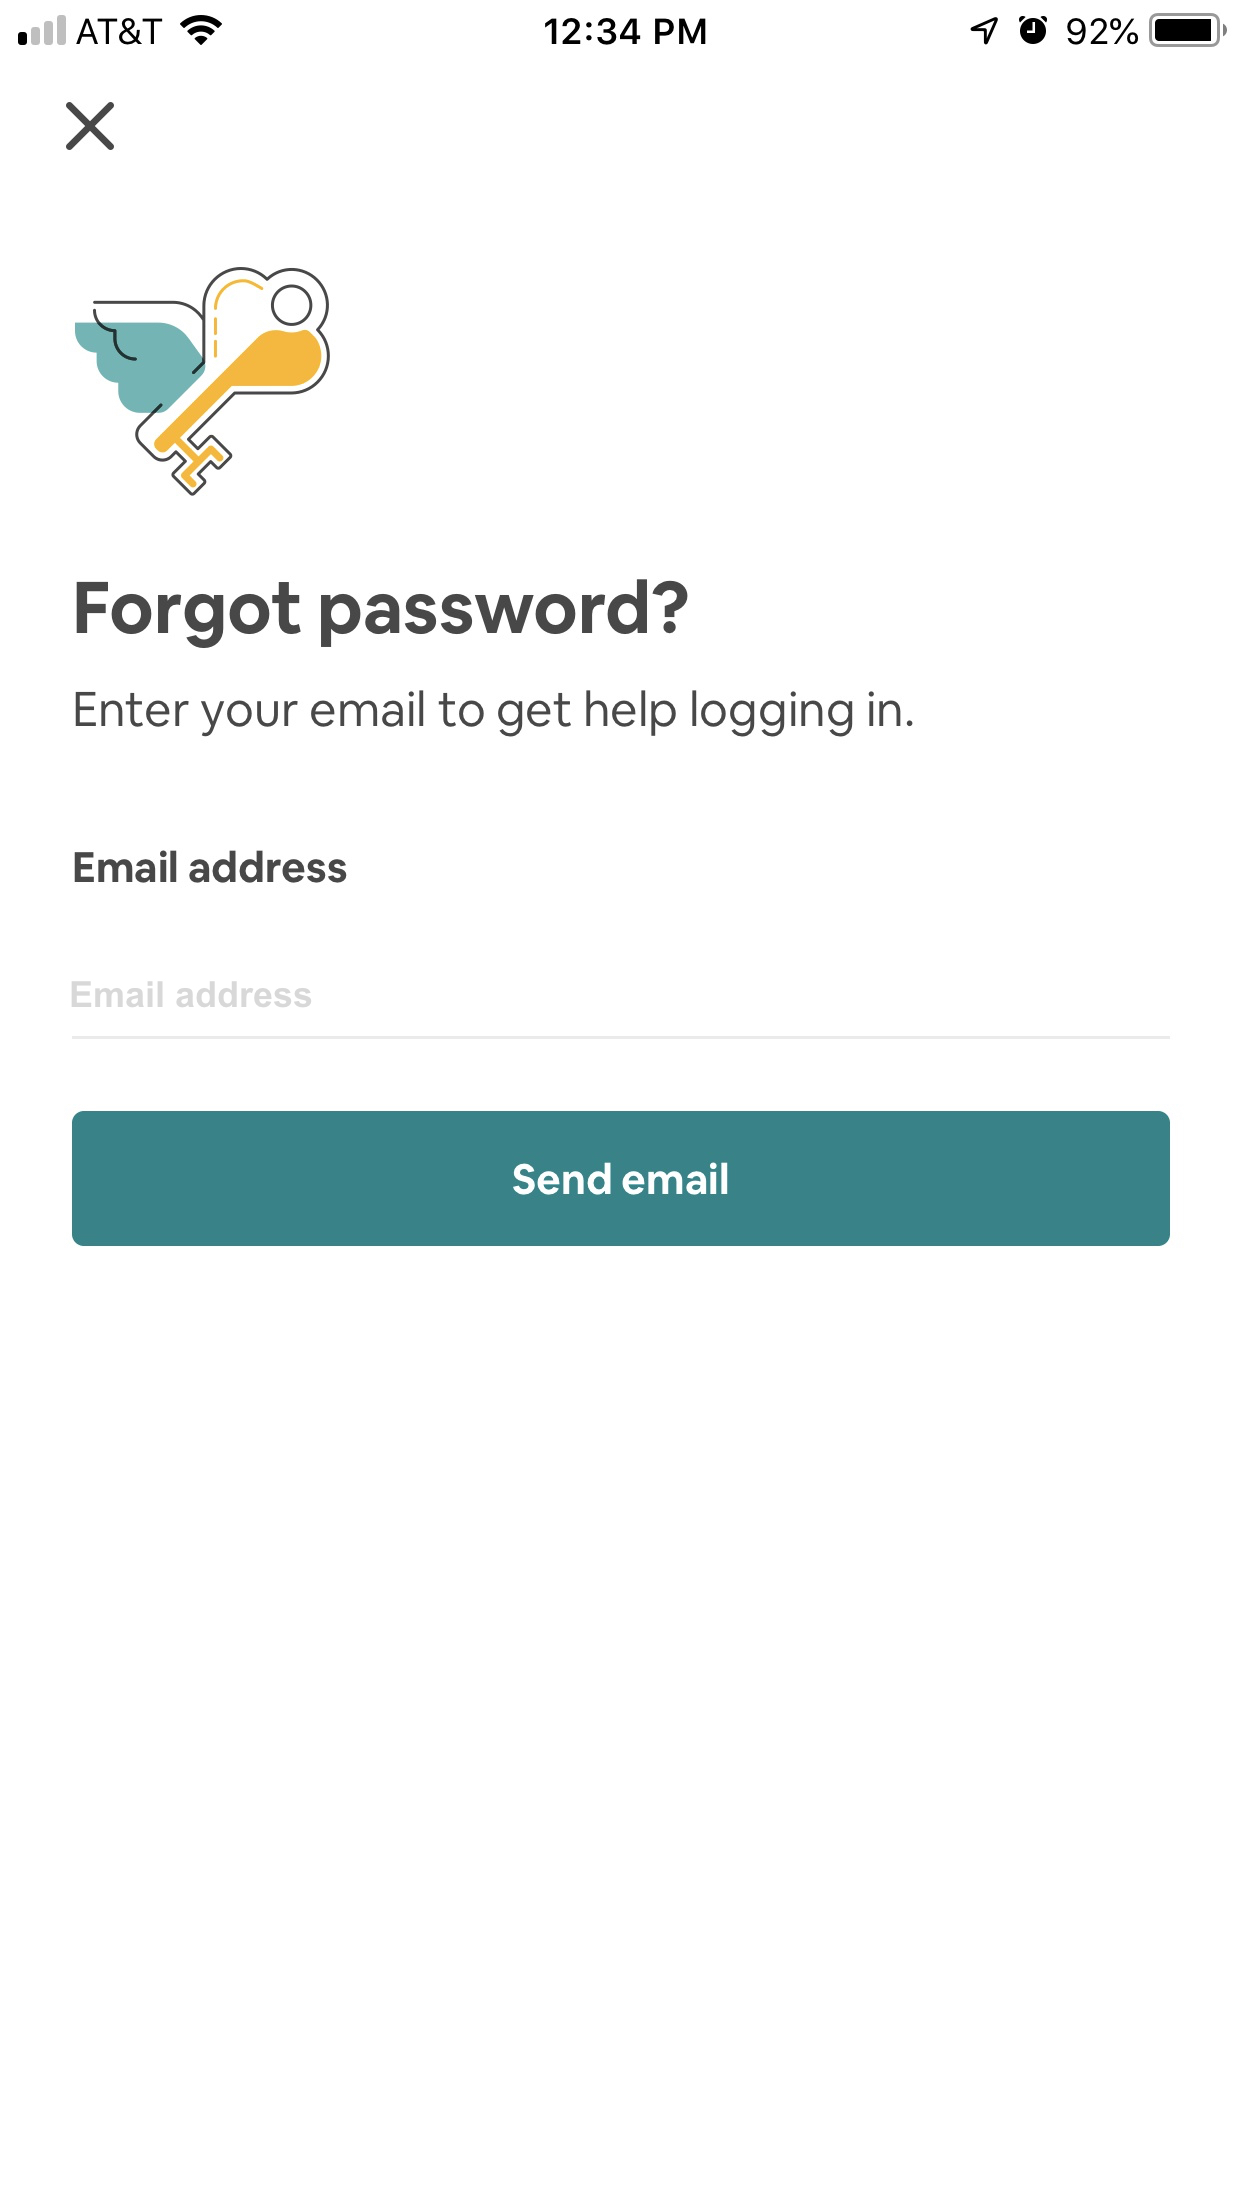EditText: (71, 980, 1171, 1040)
Icon: (67, 102, 115, 152)
Image: (74, 267, 332, 497)
Text: (77, 578, 688, 649), (74, 690, 913, 739), (74, 851, 347, 886), (71, 980, 312, 1008)
TextButton: (73, 1112, 1171, 1247)
UpperTaskBar: (2, 2, 1242, 49)
